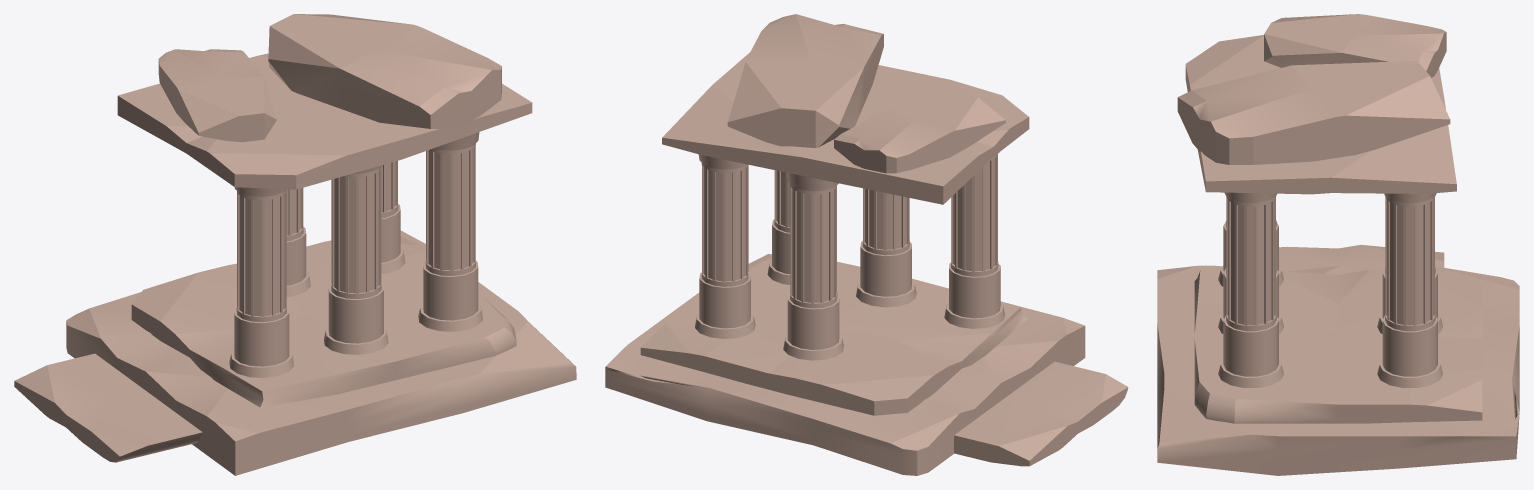
File: ruina_1.2.obj
3 renders of one model, left to right at view 1: azimuth 30°, elevation 25°; view 2: azimuth 150°, elevation 25°; view 3: azimuth 270°, elevation 25°, orthographic. The views are drawn at different scales.
Visible parts, largest first — view 1: Cylinder.008; view 2: Cylinder.008; view 3: Cylinder.008.
Boxes of the visible parts, x1=… form: Cylinder.008: x1=14, y1=14, x2=576, y2=475; Cylinder.008: x1=605, y1=14, x2=1128, y2=475; Cylinder.008: x1=1157, y1=14, x2=1519, y2=475.
Bounding box in the file's own units: 23.42 × 16.84 × 17.
